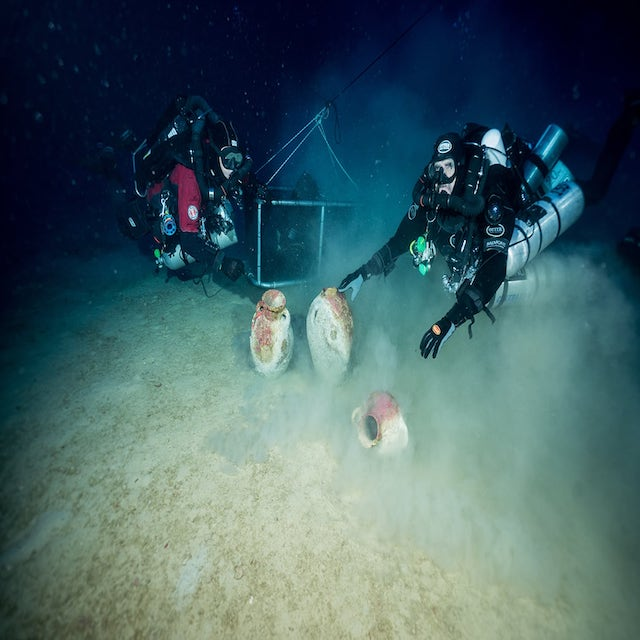amphora: (304, 287, 354, 385), (351, 388, 411, 458), (249, 288, 292, 381)
